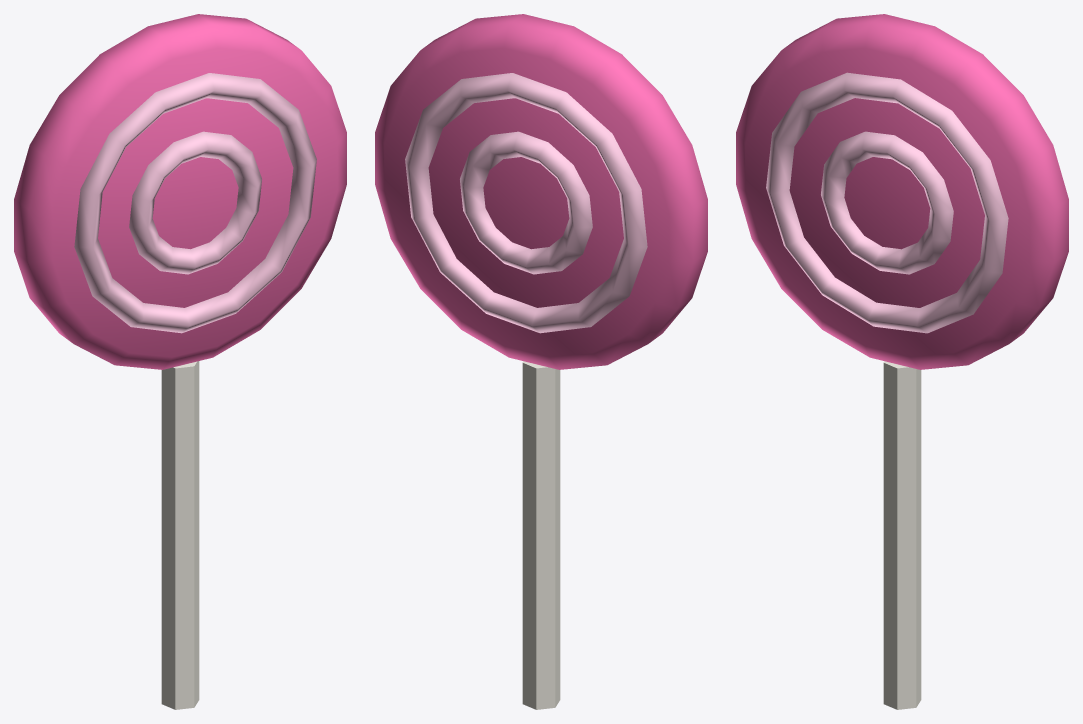
The model's file is Lollipop.fbx.
The picture shows the model from 3 angles, left to right: view 1: azimuth 30°, elevation 25°; view 2: azimuth 150°, elevation 25°; view 3: azimuth 330°, elevation 25°; orthographic projection.
Visible parts, largest first — view 1: Lollipop; view 2: Lollipop; view 3: Lollipop.
Part boxes in pixels (box(x1,y1,x2,y2)): Lollipop: box(14, 14, 346, 709); Lollipop: box(375, 14, 707, 709); Lollipop: box(736, 14, 1068, 709).
Size of the model in its own units: 0.0751 by 0.1525 by 0.018.
